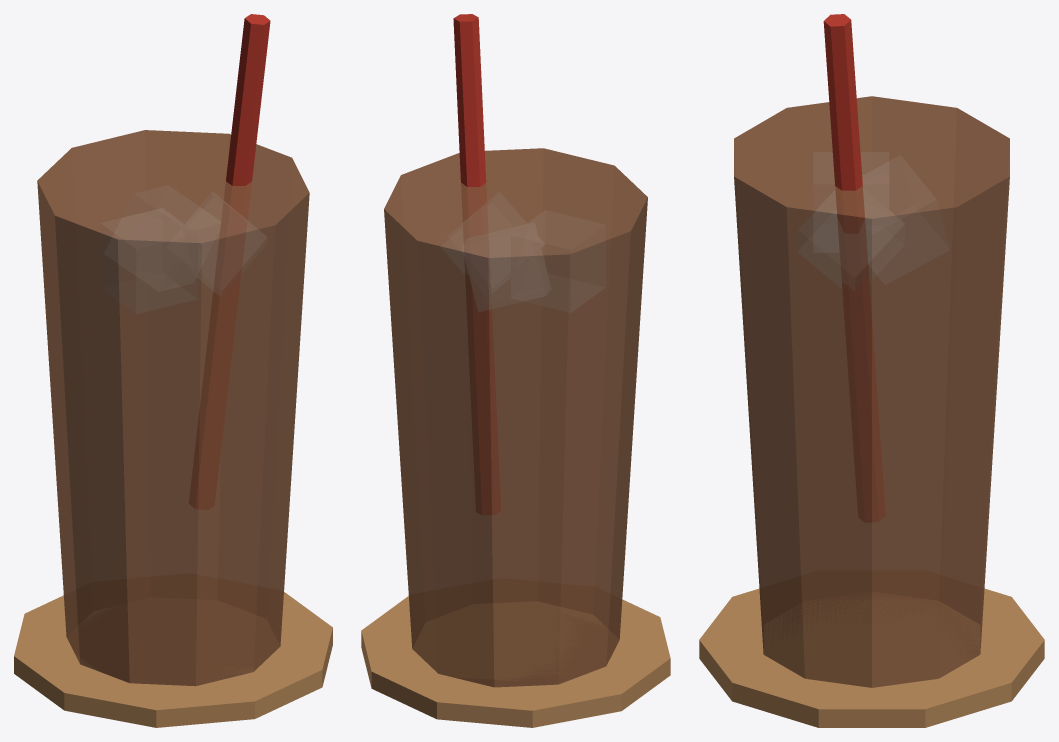
The model's file is iced_coffee.glb.
3 views of the same model, side by side, from view 1: azimuth 30°, elevation 25°; view 2: azimuth 150°, elevation 25°; view 3: azimuth 270°, elevation 25° (orthographic). The views are drawn at different scales.
Parts seen in each view (by area): view 1: IcedCoffee; view 2: IcedCoffee; view 3: IcedCoffee.
Boxes of the visible parts, box(x1,y1,x2,y2) form: IcedCoffee: box(14, 14, 332, 727); IcedCoffee: box(361, 14, 670, 727); IcedCoffee: box(699, 14, 1044, 727).
Bounding box in the file's own units: 0.0951 × 0.2154 × 0.1.
